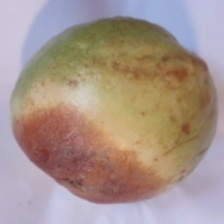guava: (36, 14, 190, 203)
